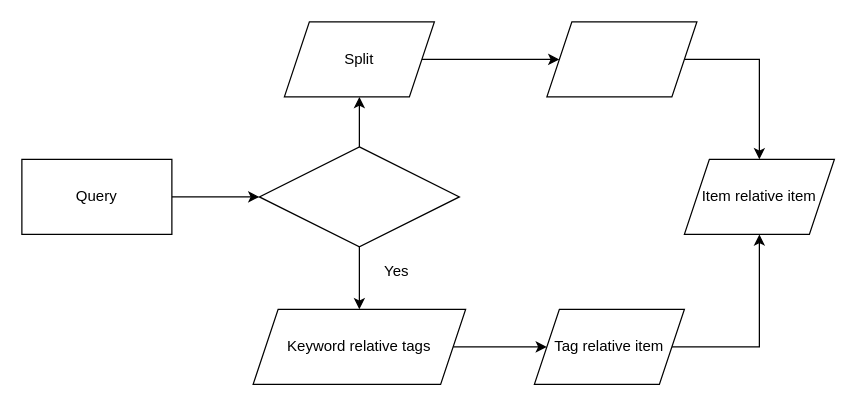
This 856x406 diagram has some shape labels left out. Each missing label, with the box of its shape:
If in keyword set: (258, 146, 459, 247)
Word relative: (546, 21, 697, 97)
